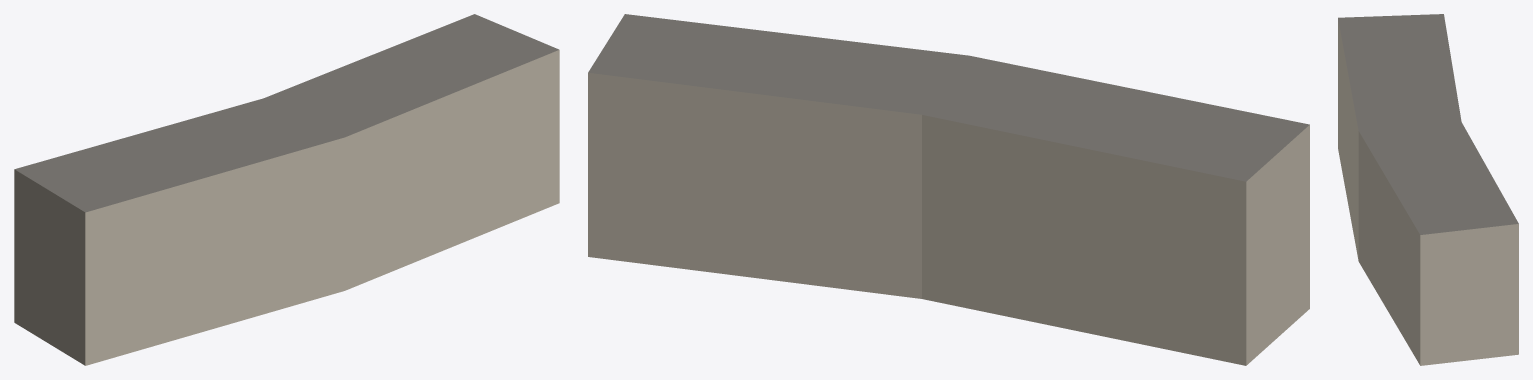
The picture shows the model from 3 angles, left to right: view 1: azimuth 30°, elevation 25°; view 2: azimuth 150°, elevation 25°; view 3: azimuth 270°, elevation 25°; orthographic projection. The views are drawn at different scales.
Parts seen in each view (by area): view 1: HP-w1159135723; view 2: HP-w1159135723; view 3: HP-w1159135723.
Part boxes in pixels (x1,y1,x2,y2): HP-w1159135723: (14,14,559,365); HP-w1159135723: (588,14,1309,365); HP-w1159135723: (1338,14,1518,365).
Bounding box in the file's own units: 65.23 × 18 × 22.56.
